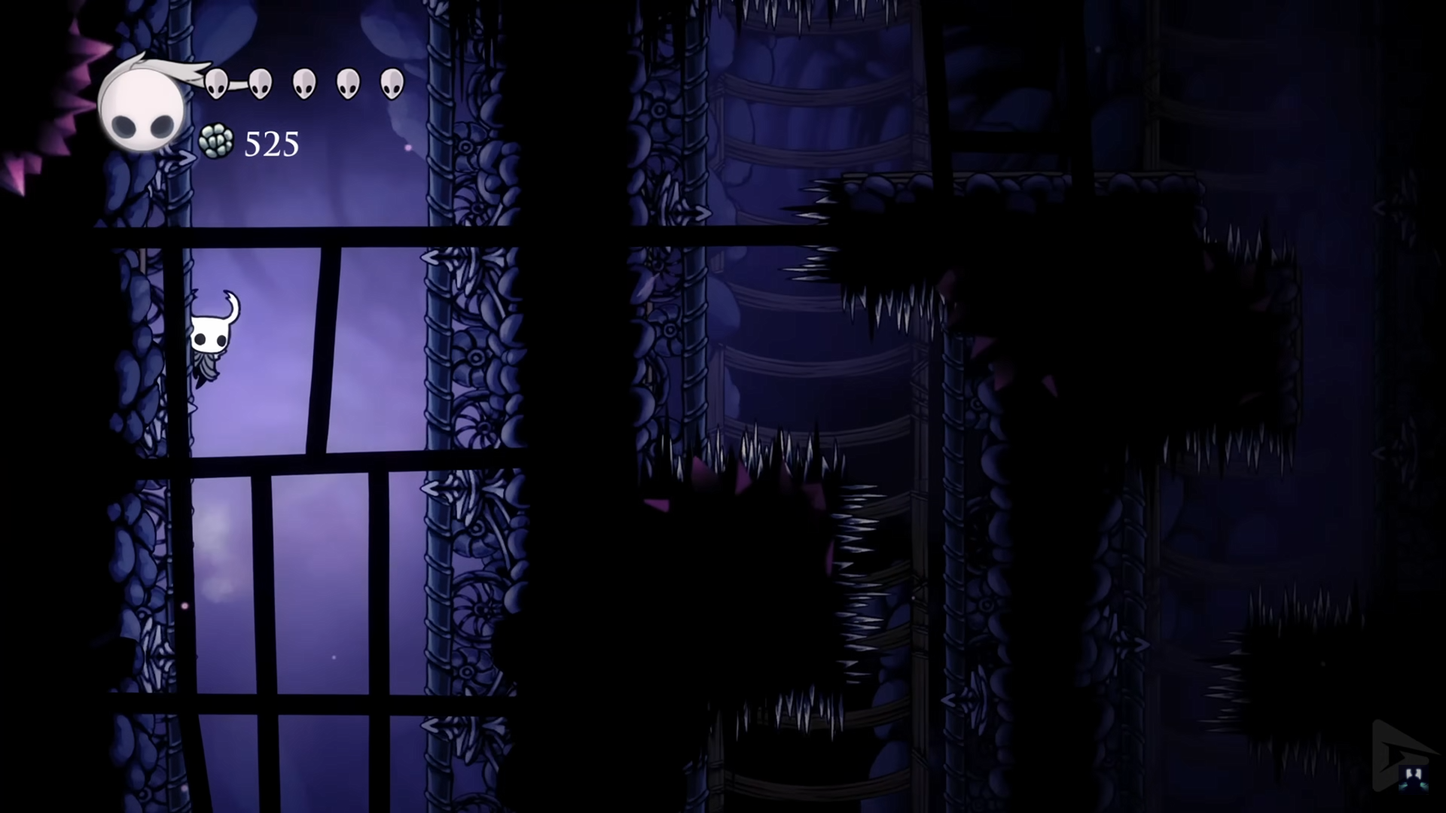HK: (185, 288, 243, 393)
